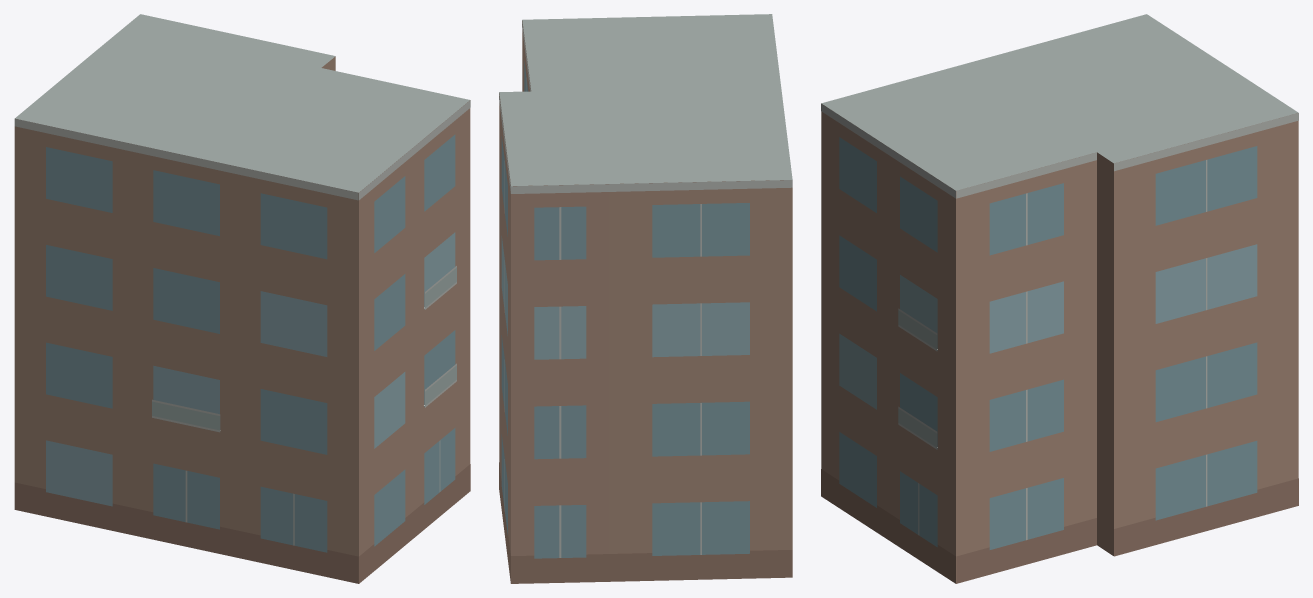
Rendered from residential-22679d6e-04a3-43b9-80c3-5f9630bc364a.glb.
The picture shows the model from 3 angles, left to right: view 1: azimuth 30°, elevation 25°; view 2: azimuth 150°, elevation 25°; view 3: azimuth 270°, elevation 25°; orthographic projection.
Parts seen in each view (by area): view 1: residential-22679d6e-04a3-43b9-80c3-5f9630bc364a.tmp; view 2: residential-22679d6e-04a3-43b9-80c3-5f9630bc364a.tmp; view 3: residential-22679d6e-04a3-43b9-80c3-5f9630bc364a.tmp.
Boxes of the visible parts, <box> form: residential-22679d6e-04a3-43b9-80c3-5f9630bc364a.tmp: <box>14,14,470,583</box>; residential-22679d6e-04a3-43b9-80c3-5f9630bc364a.tmp: <box>499,14,792,583</box>; residential-22679d6e-04a3-43b9-80c3-5f9630bc364a.tmp: <box>821,14,1298,583</box>.
Size of the model in its own units: 11.78 by 12.2 by 13.45.
